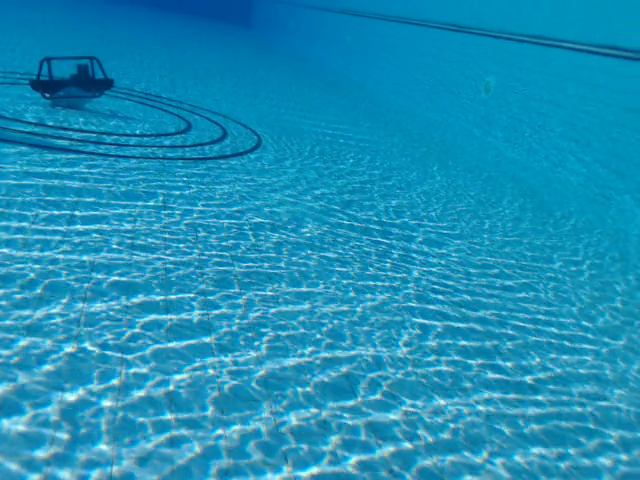submarine: (28, 55, 116, 111)
